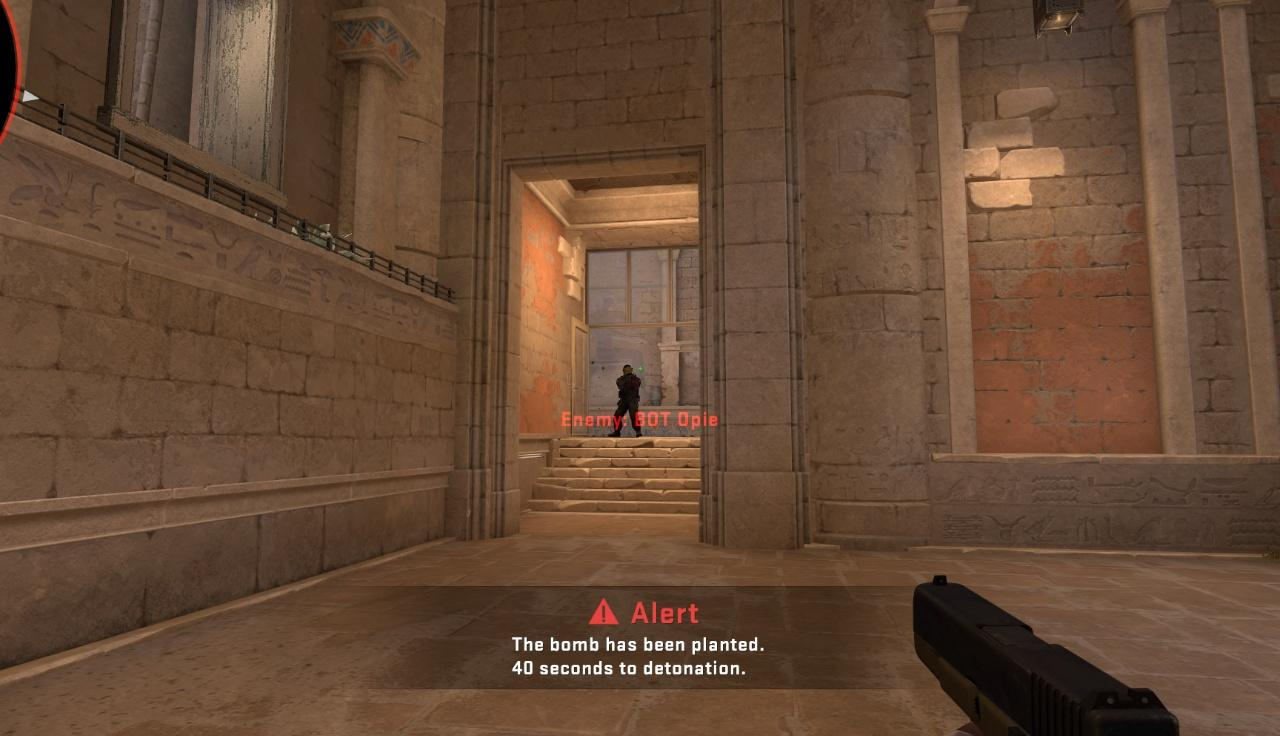ct: (608, 364, 642, 436)
cthead: (622, 364, 633, 378)
pistol: (909, 572, 1179, 733)
